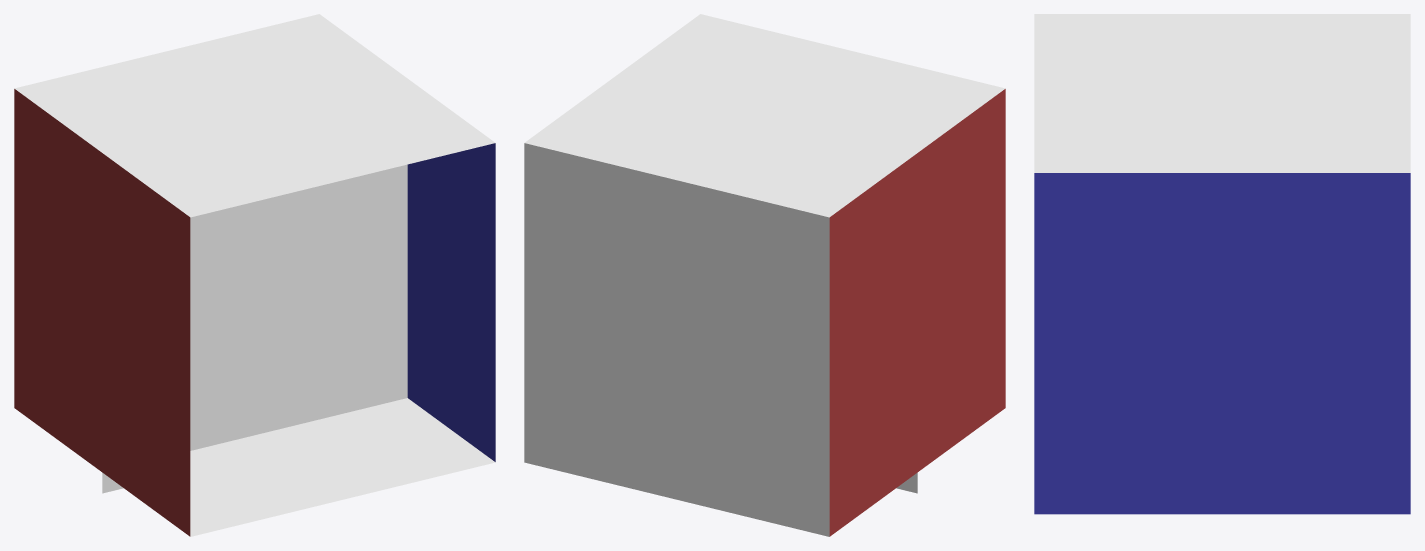
File: refract_test.dae
3 renders of one model, left to right at view 1: azimuth 30°, elevation 25°; view 2: azimuth 150°, elevation 25°; view 3: azimuth 270°, elevation 25°, orthographic. The views are drawn at different scales.
Visible parts, largest first — view 1: Square-S3D-13, Square-S3D-15, Square-S3D-18, Square-S3D-14, Square-S3D-17; view 2: Square-S3D-16, Square-S3D-13, Square-S3D-15; view 3: Square-S3D-14, Square-S3D-15.
Boxes of the visible parts, <box> form: Square-S3D-13: <box>14,89,190,536</box>; Square-S3D-15: <box>14,14,495,217</box>; Square-S3D-18: <box>102,164,407,493</box>; Square-S3D-14: <box>407,143,495,461</box>; Square-S3D-17: <box>190,398,495,536</box>; Square-S3D-16: <box>524,143,829,536</box>; Square-S3D-13: <box>829,89,1005,536</box>; Square-S3D-15: <box>524,14,1005,217</box>; Square-S3D-14: <box>1034,173,1410,514</box>; Square-S3D-15: <box>1034,14,1410,172</box>.
Size of the model in its own units: 1 by 1.07 by 1.
